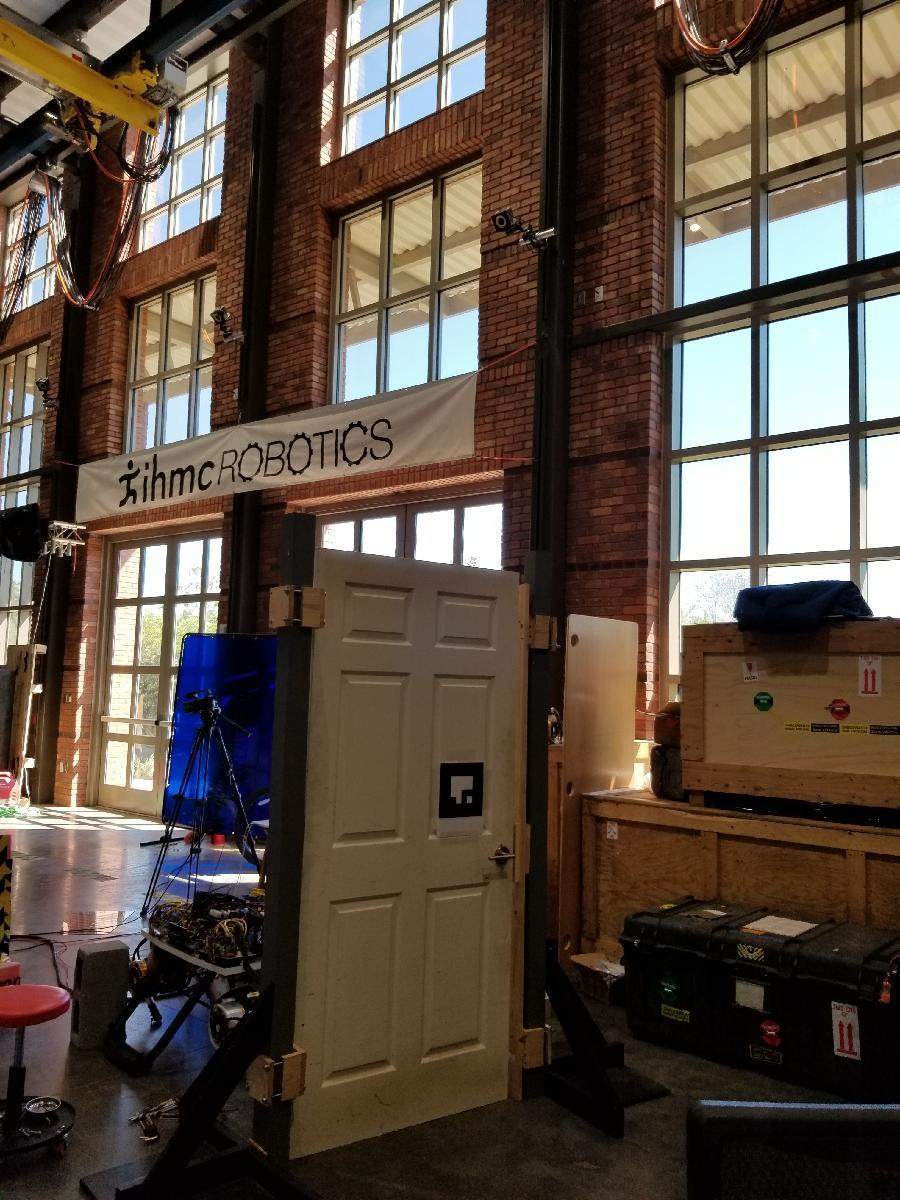door: (318, 553, 518, 1131)
handle: (485, 843, 516, 872)
